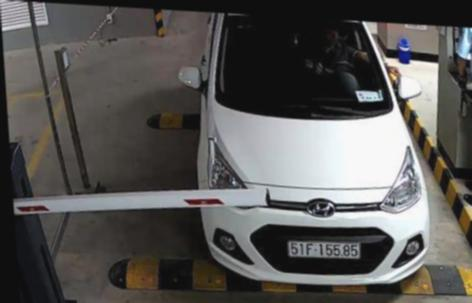License_Plate: (284, 232, 362, 264)
